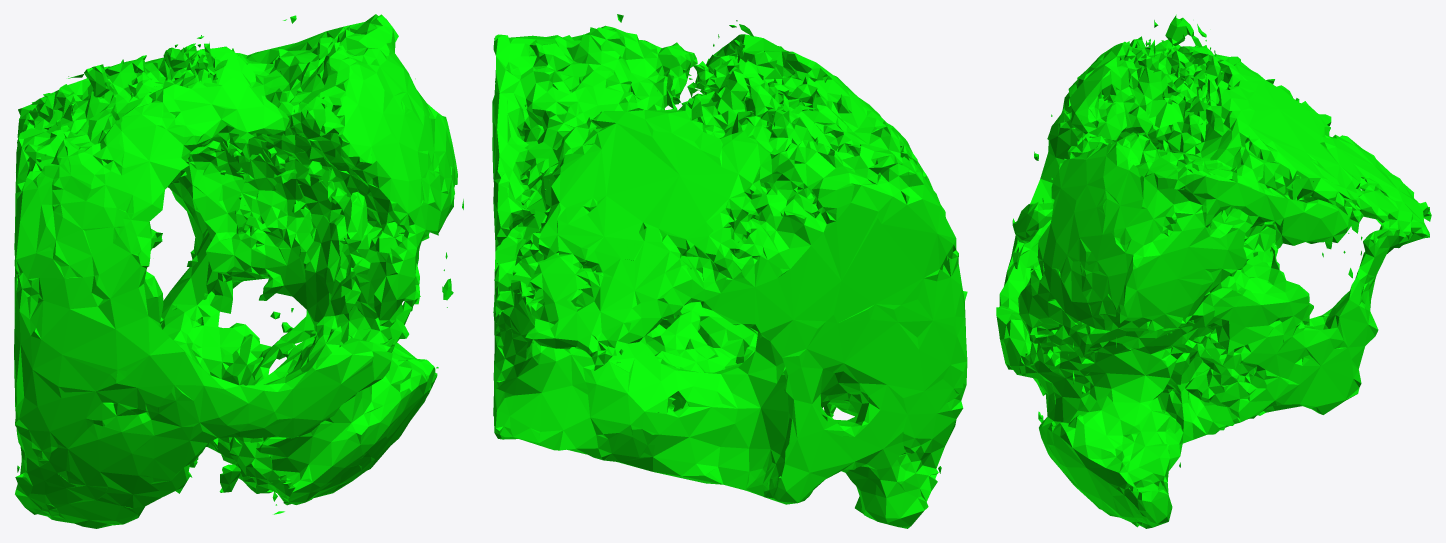
The model's file is B939XXXX-1_base_8.obj.
The picture shows the model from 3 angles, left to right: view 1: azimuth 30°, elevation 25°; view 2: azimuth 150°, elevation 25°; view 3: azimuth 270°, elevation 25°; orthographic projection. The views are drawn at different scales.
Visible parts, largest first — view 1: 8_base; view 2: 8_base; view 3: 8_base.
Boxes of the visible parts, x1,y1,x2,y2 form: 8_base: (14, 14, 463, 528); 8_base: (492, 14, 967, 528); 8_base: (996, 14, 1431, 528).
Bounding box in the file's own units: 219 × 218 × 202.
